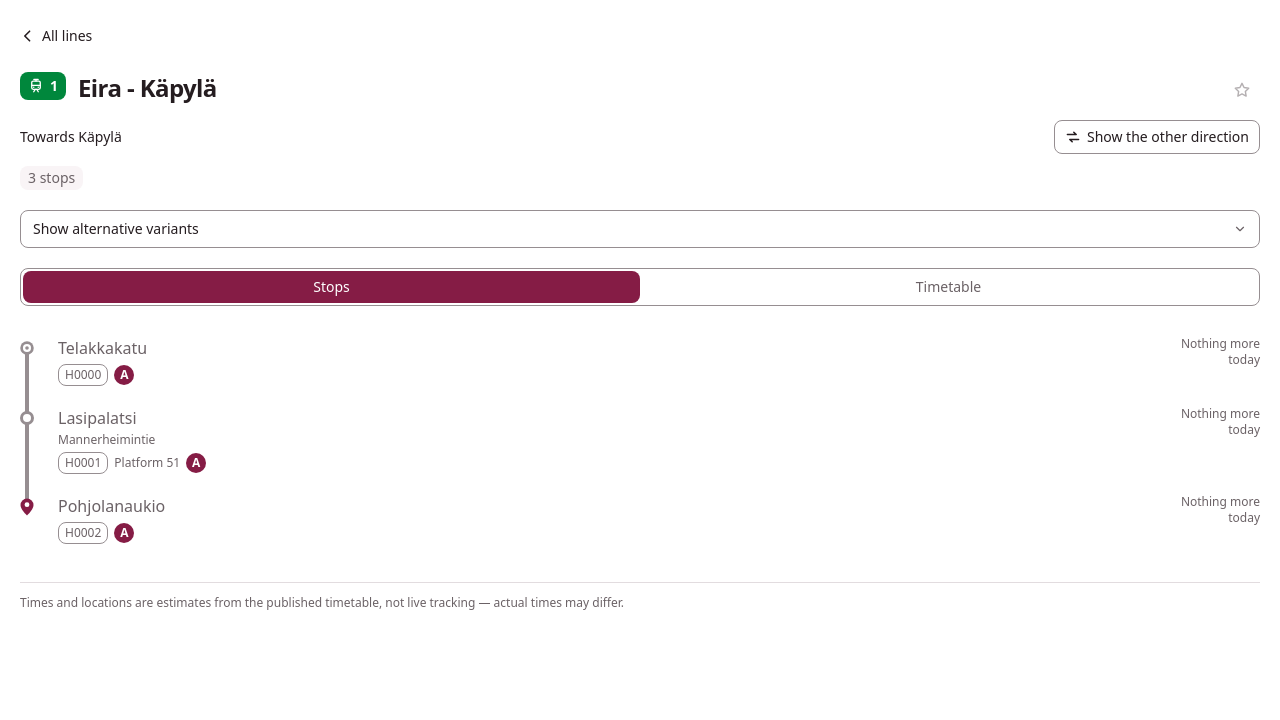
it: RouteInspector › the timetable › reports a day the line does not run as an empty day, not an error
Expected: the heading "Eira - Käpylä" is shown, 78,71 -> 217,104
Click the radio button labelled "Timetable" at (948, 287), box 640,271 -> 1257,303
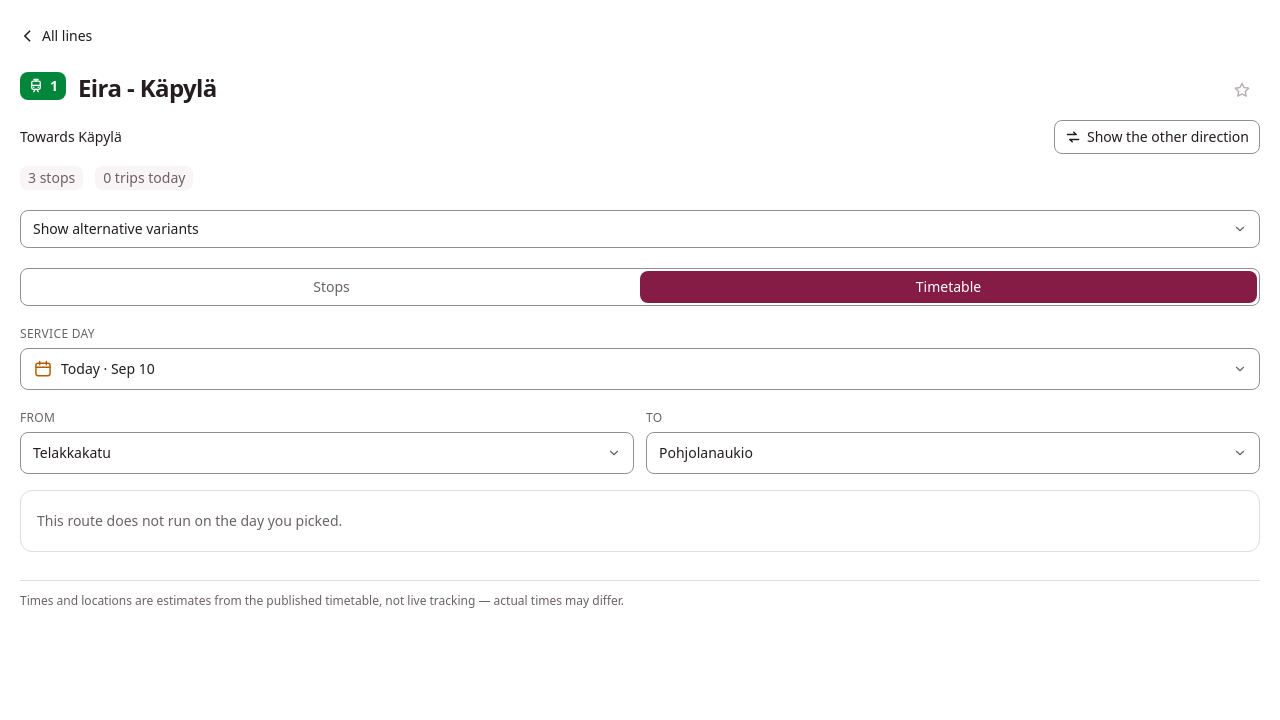
Expected: the text "This route does not run on the day you picked." is shown, 20,490 -> 1260,552
